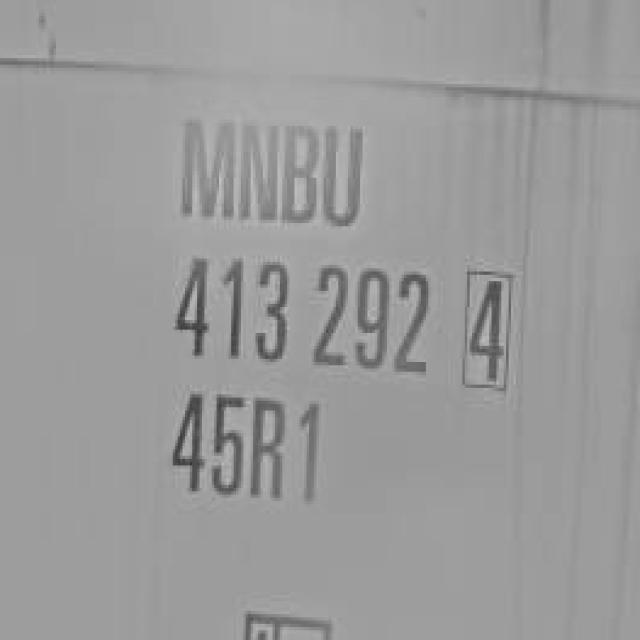dv: (456, 260, 529, 398)
owner: (168, 101, 381, 229)
serial: (161, 246, 444, 388)
size: (154, 374, 337, 513)
